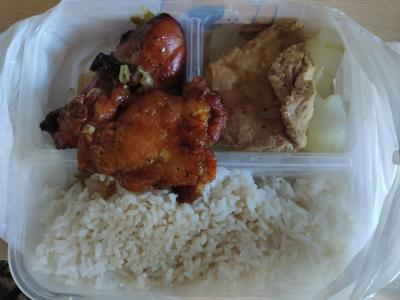jt: (40, 15, 192, 130)
rice: (40, 165, 362, 283)
